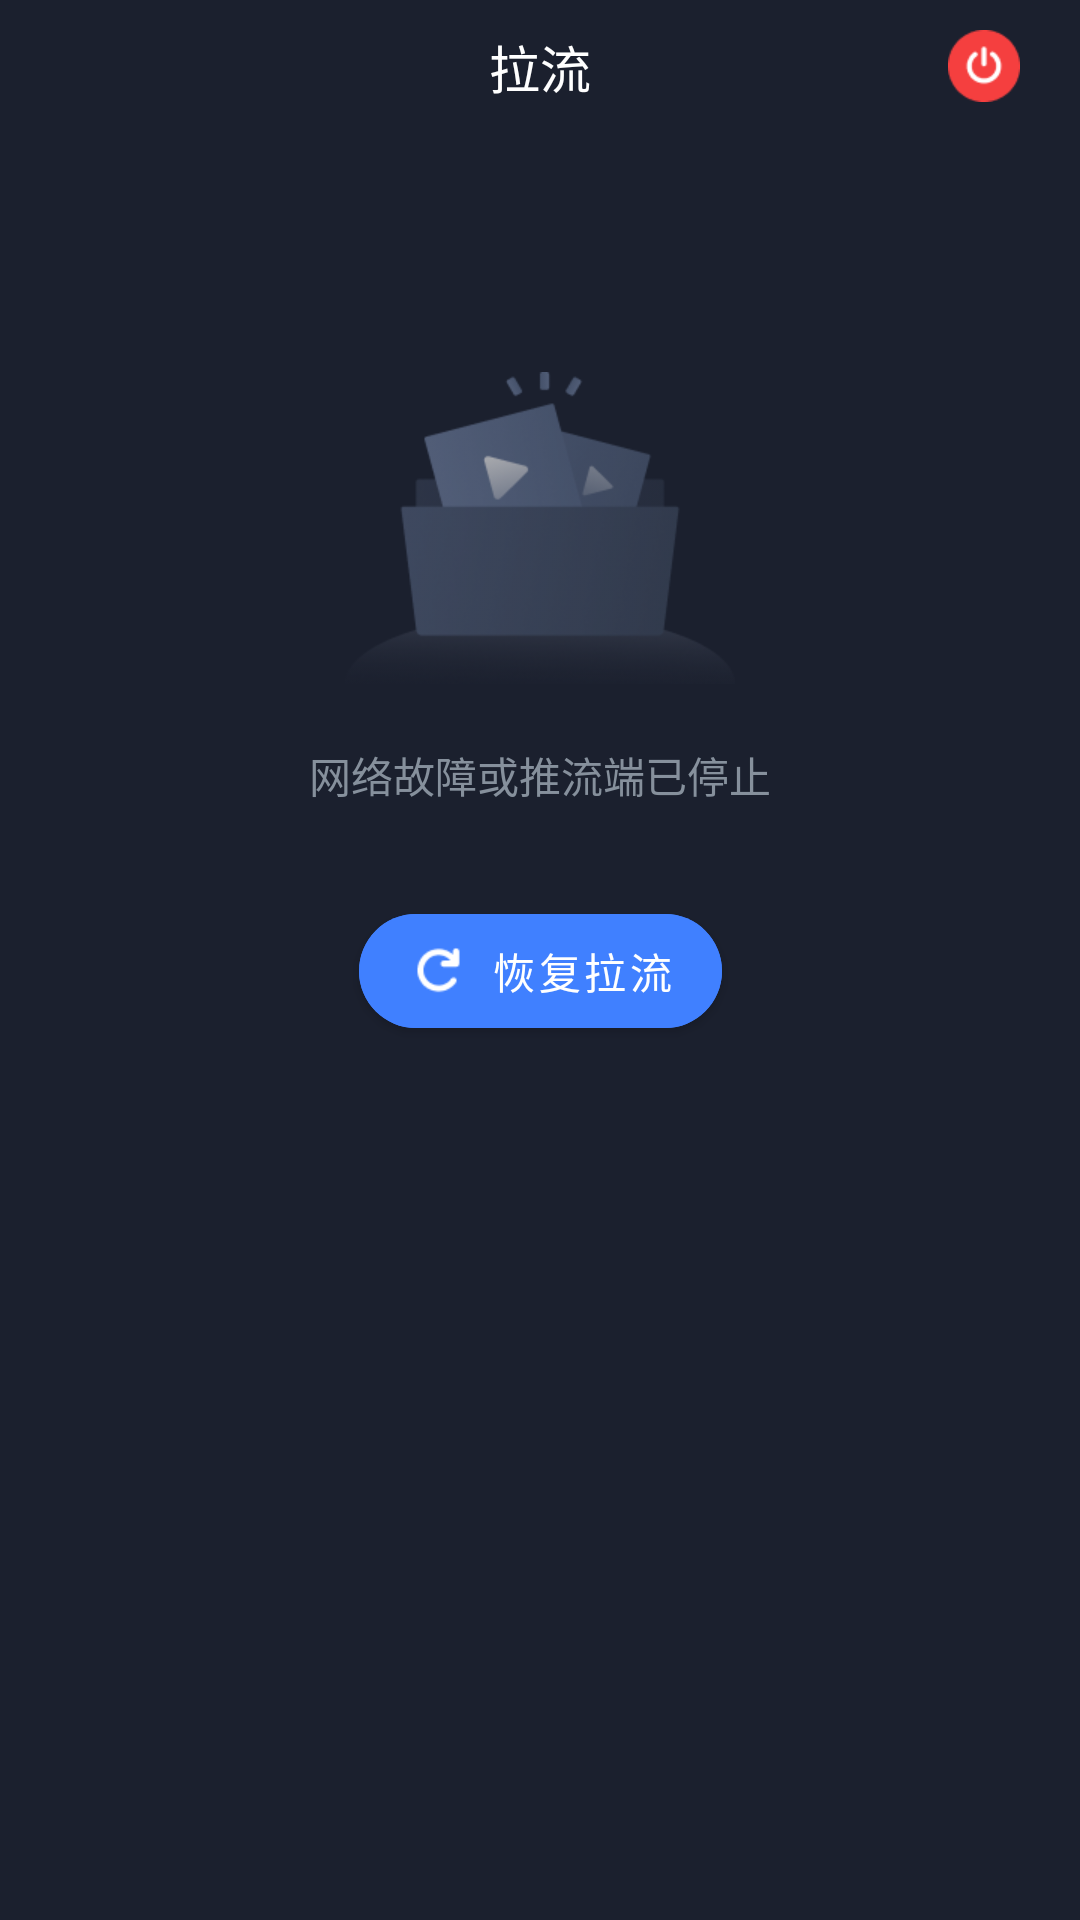

Icons on this 1080 × 1920 Android screen, each with its box as [x1,y1,x2,y2]:
exit: [948,30,1020,102]
